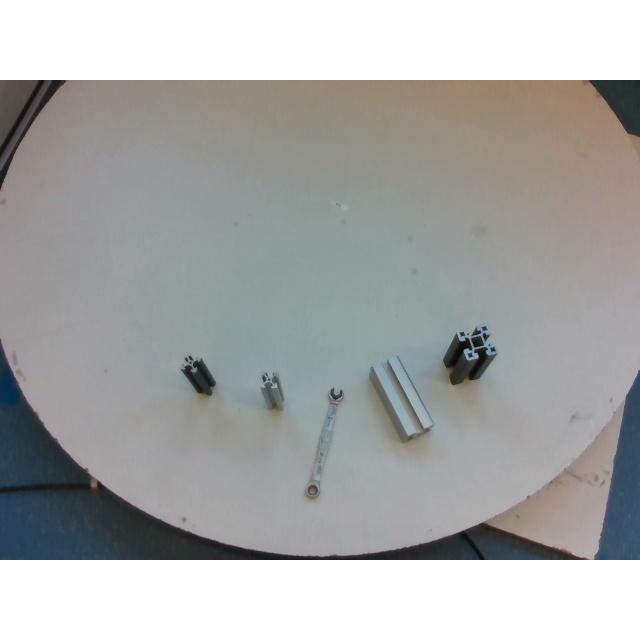F20_20_B: (180, 355, 216, 395)
F20_20_G: (260, 371, 284, 409)
S40_40_B: (443, 322, 497, 384)
S40_40_G: (372, 354, 434, 438)
Wrench: (305, 387, 343, 499)
